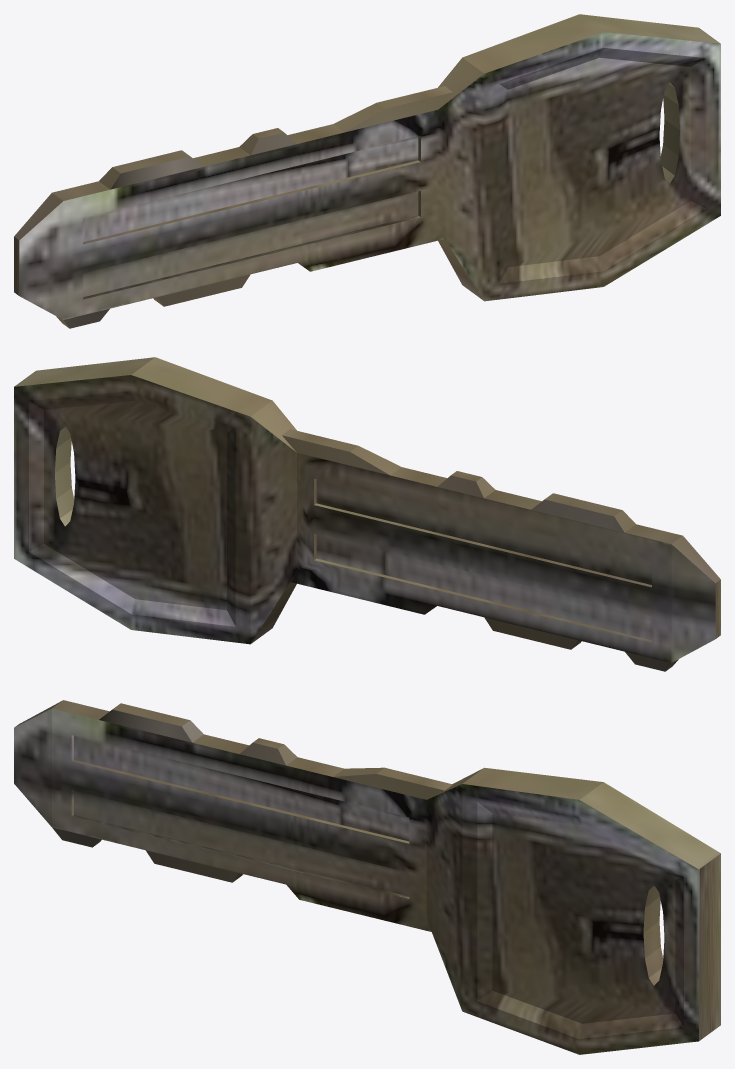
Rendered from key.glb.
The picture shows the model from 3 angles, top to bottom: view 1: azimuth 30°, elevation 25°; view 2: azimuth 150°, elevation 25°; view 3: azimuth 330°, elevation 25°; orthographic projection.
Parts seen in each view (by area): view 1: 큐브.057; view 2: 큐브.057; view 3: 큐브.057.
Boxes of the visible parts, x1,y1,x2,y2 form: 큐브.057: (14,14,720,328); 큐브.057: (14,357,720,671); 큐브.057: (14,700,720,1054).
Size of the model in its own units: 0.1184 by 0.0416 by 0.00718.
Materials: 1 (1 with a texture image).
